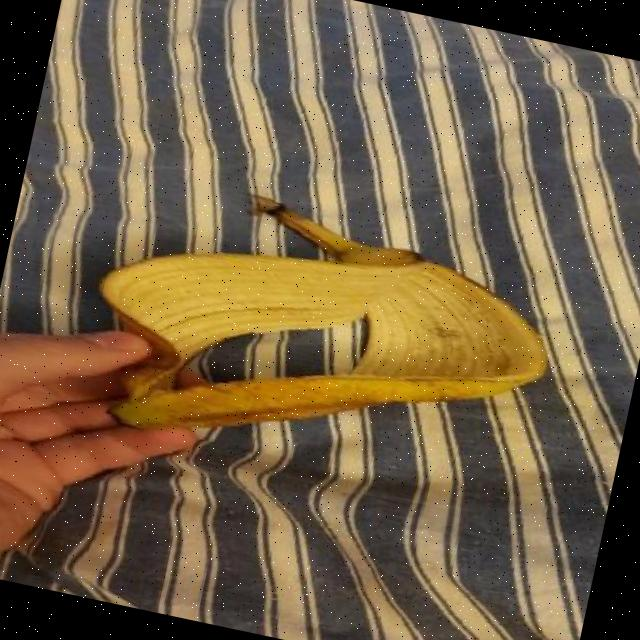banana-peel: (70, 163, 570, 510)
